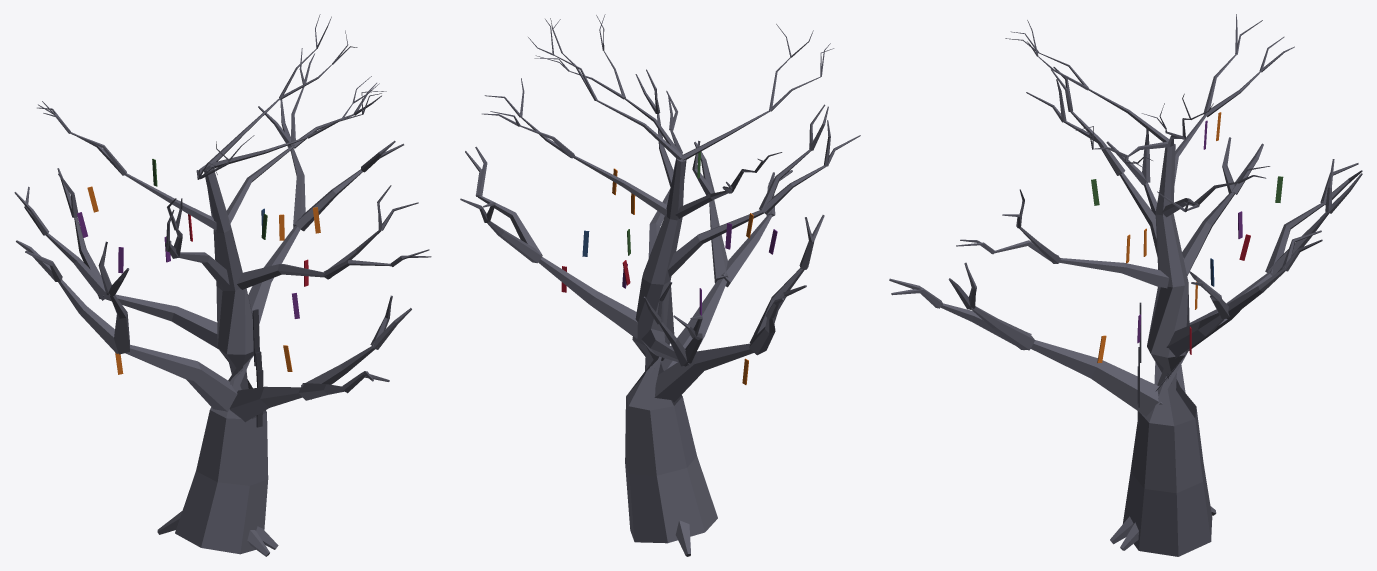
The model's file is ribbon_tree.glb.
3 views of the same model, side by side, from view 1: azimuth 30°, elevation 25°; view 2: azimuth 150°, elevation 25°; view 3: azimuth 270°, elevation 25° (orthographic). The views are drawn at different scales.
Visible parts, largest first — view 1: ribbon_tree; view 2: ribbon_tree; view 3: ribbon_tree.
Boxes of the visible parts, x1,y1,x2,y2 form: ribbon_tree: [14, 14, 431, 556]; ribbon_tree: [460, 14, 860, 556]; ribbon_tree: [889, 14, 1362, 556].
Size of the model in its own units: 3.24 by 4.25 by 3.61.
